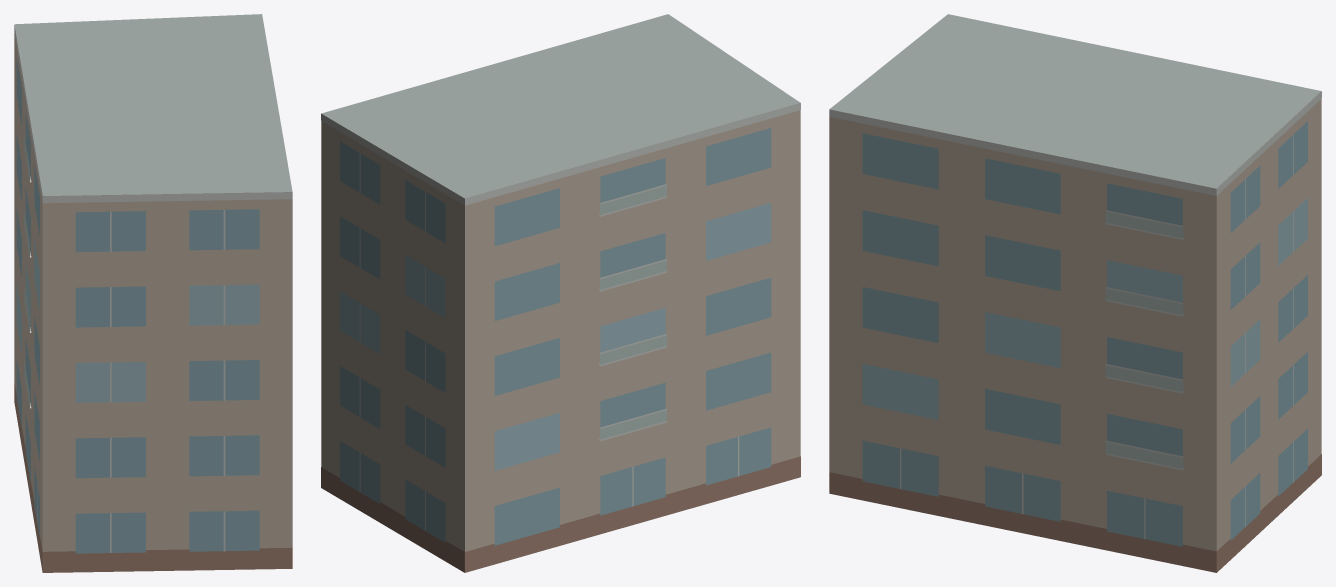
The model's file is survey-upis-32984912.glb.
The picture shows the model from 3 angles, left to right: view 1: azimuth 30°, elevation 25°; view 2: azimuth 150°, elevation 25°; view 3: azimuth 270°, elevation 25°; orthographic projection. The views are drawn at different scales.
Visible parts, largest first — view 1: survey-upis-32984912.tmp; view 2: survey-upis-32984912.tmp; view 3: survey-upis-32984912.tmp.
Boxes of the visible parts, x1,y1,x2,y2 form: survey-upis-32984912.tmp: (14, 14, 292, 572); survey-upis-32984912.tmp: (321, 14, 800, 572); survey-upis-32984912.tmp: (829, 14, 1321, 572).
Bounding box in the file's own units: 12.49 × 12.8 × 14.88.
